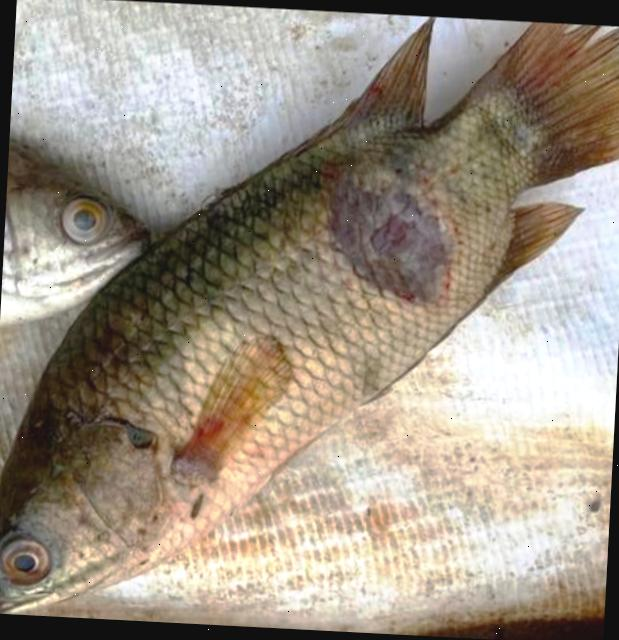Columnaris Disease: (0, 16, 619, 614)
